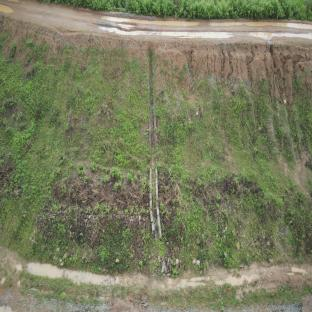rock_toe: (164, 212, 282, 268), (35, 207, 146, 263)
slope_drain: (146, 54, 164, 240)
